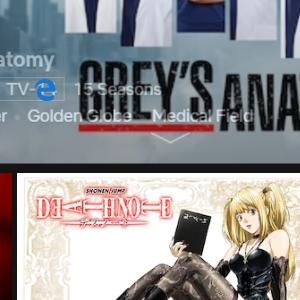edge: (34, 79, 56, 101)
